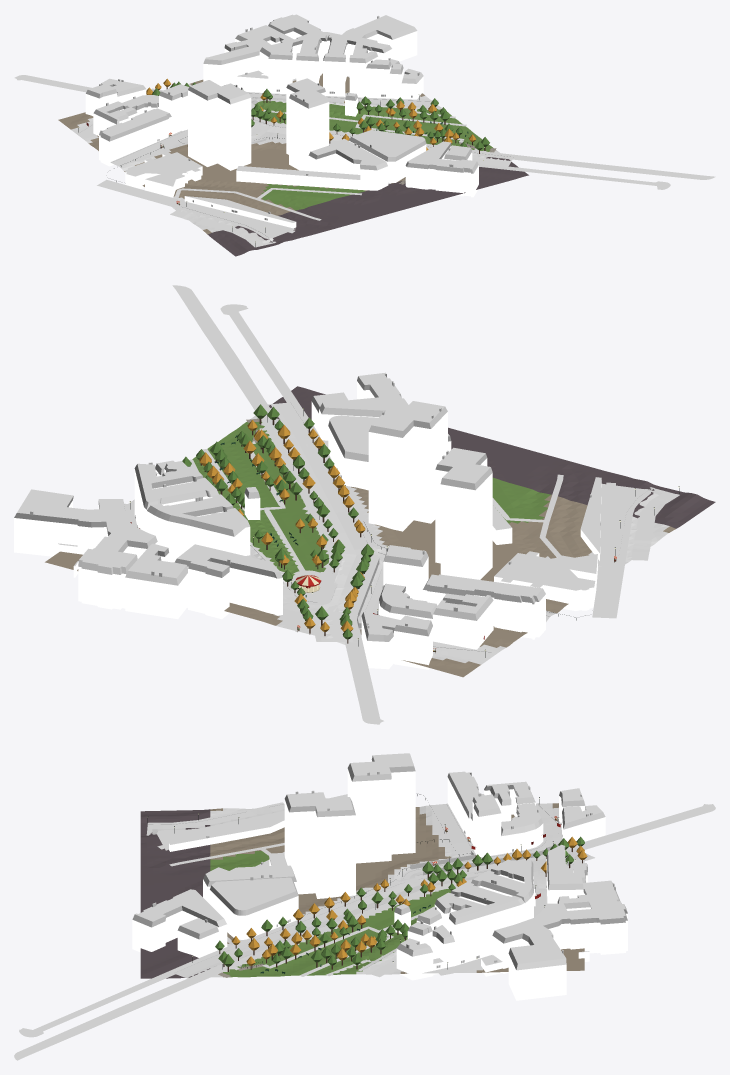
Rendered from zone_K2.glb.
The picture shows the model from 3 angles, top to bottom: view 1: azimuth 30°, elevation 25°; view 2: azimuth 150°, elevation 25°; view 3: azimuth 270°, elevation 25°; orthographic projection. The views are drawn at different scales.
Visible parts, largest first — view 1: zone_K2_batiments, zone_K2_terrain, zone_K2_sol_NOCOL, zone_K2_decor_NOCOL; view 2: zone_K2_batiments, zone_K2_terrain, zone_K2_sol_NOCOL, zone_K2_decor_NOCOL; view 3: zone_K2_batiments, zone_K2_terrain, zone_K2_sol_NOCOL, zone_K2_decor_NOCOL.
Part boxes in pixels (box(x1,y1,x2,y2)): zone_K2_batiments: box(85, 14, 478, 228); zone_K2_terrain: box(58, 73, 528, 256); zone_K2_sol_NOCOL: box(14, 75, 715, 247); zone_K2_decor_NOCOL: box(78, 78, 489, 247); zone_K2_batiments: box(14, 372, 601, 669); zone_K2_terrain: box(45, 386, 715, 677); zone_K2_sol_NOCOL: box(124, 285, 679, 724); zone_K2_decor_NOCOL: box(129, 404, 679, 657); zone_K2_batiments: box(132, 753, 627, 1000); zone_K2_terrain: box(140, 803, 584, 978); zone_K2_sol_NOCOL: box(14, 802, 715, 1060); zone_K2_decor_NOCOL: box(147, 794, 587, 973).
Size of the model in its own units: 318 by 52.06 by 332.
